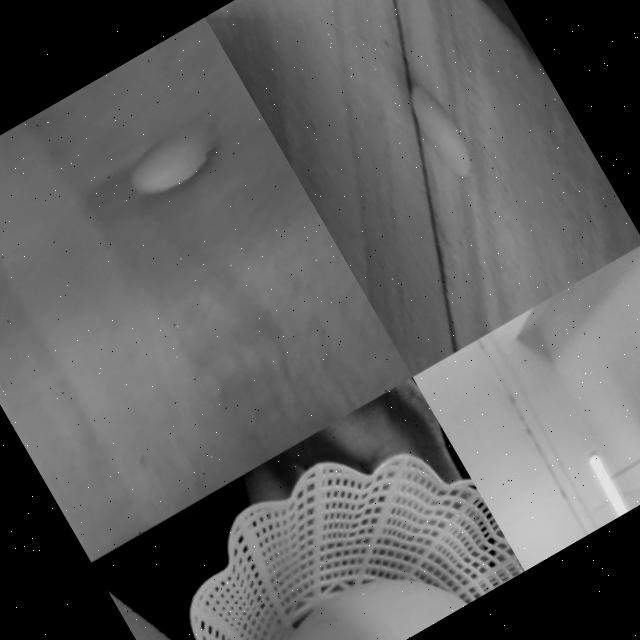ping-pong-ball: (228, 535, 478, 640), (120, 116, 223, 204), (400, 76, 482, 186)
